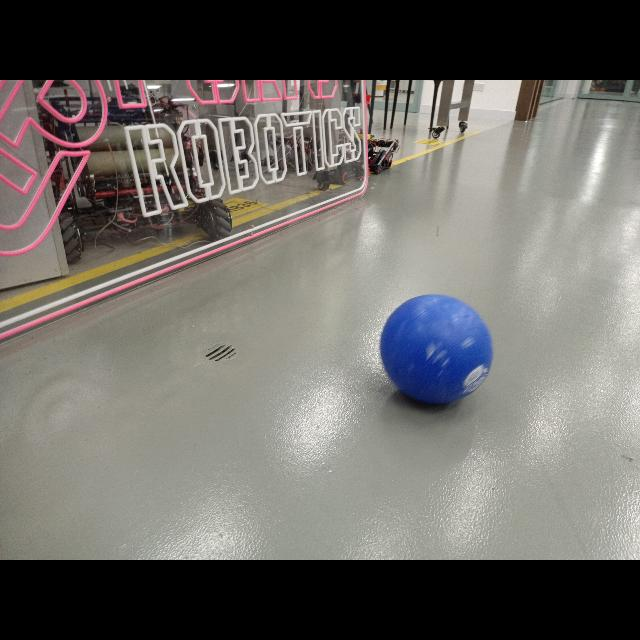B: (378, 286, 496, 408)
